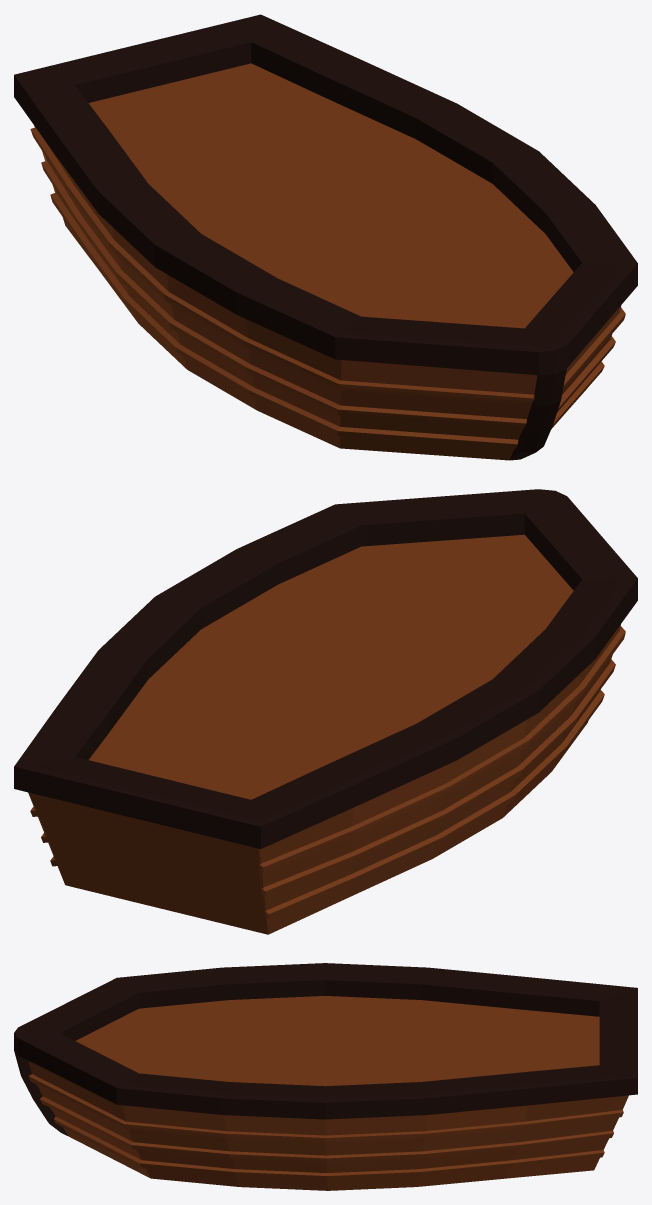
The model's file is łódeczkapełna.obj.
3 views of the same model, one above another, from view 1: azimuth 30°, elevation 25°; view 2: azimuth 150°, elevation 25°; view 3: azimuth 270°, elevation 25° (orthographic). The views are drawn at different scales.
Visible parts, largest first — view 1: Cube; view 2: Cube; view 3: Cube.
Boxes of the visible parts, <box> form: Cube: <box>14,14,637,460</box>; Cube: <box>14,489,637,934</box>; Cube: <box>14,963,637,1190</box>.
Size of the model in its own units: 4.38 by 1.47 by 8.26.
